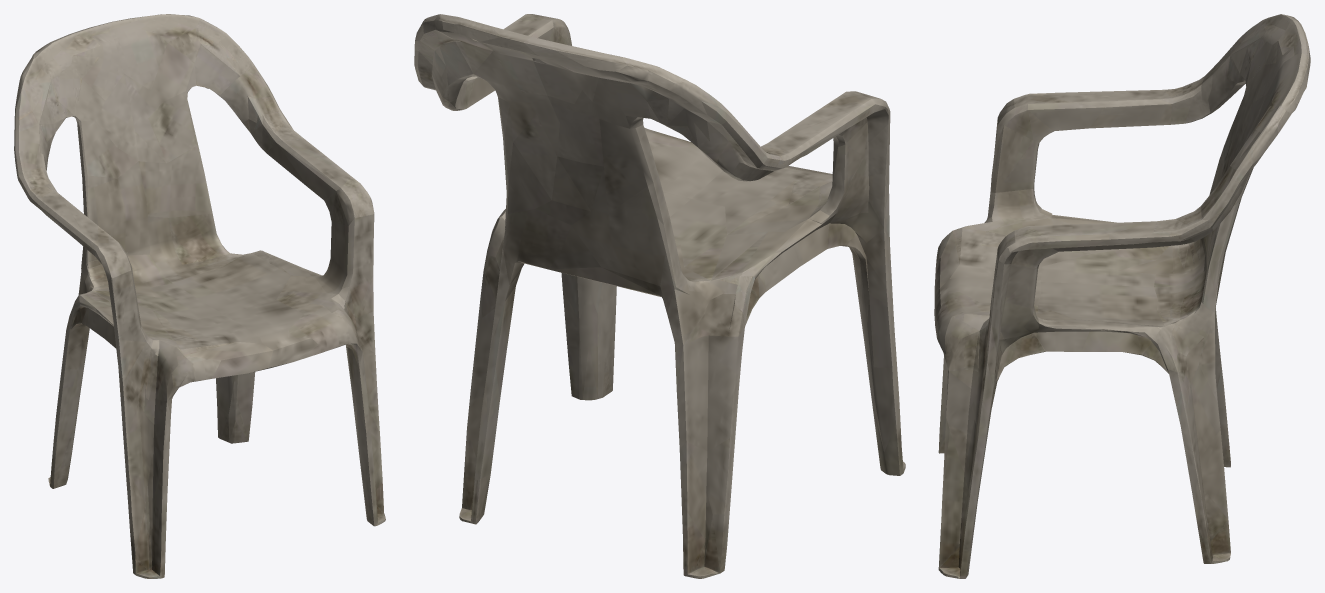
The model's file is chair.glb.
3 renders of one model, left to right at view 1: azimuth 30°, elevation 25°; view 2: azimuth 150°, elevation 25°; view 3: azimuth 270°, elevation 25°, orthographic. The views are drawn at different scales.
Parts seen in each view (by area): view 1: Mesh_0; view 2: Mesh_0; view 3: Mesh_0.
Boxes of the visible parts, x1=… form: Mesh_0: x1=14, y1=14, x2=385, y2=578; Mesh_0: x1=414, y1=14, x2=905, y2=578; Mesh_0: x1=934, y1=14, x2=1310, y2=578.
Bounding box in the file's own units: 1.3 × 1.9 × 1.41.
Materials: 1 (1 with a texture image).
